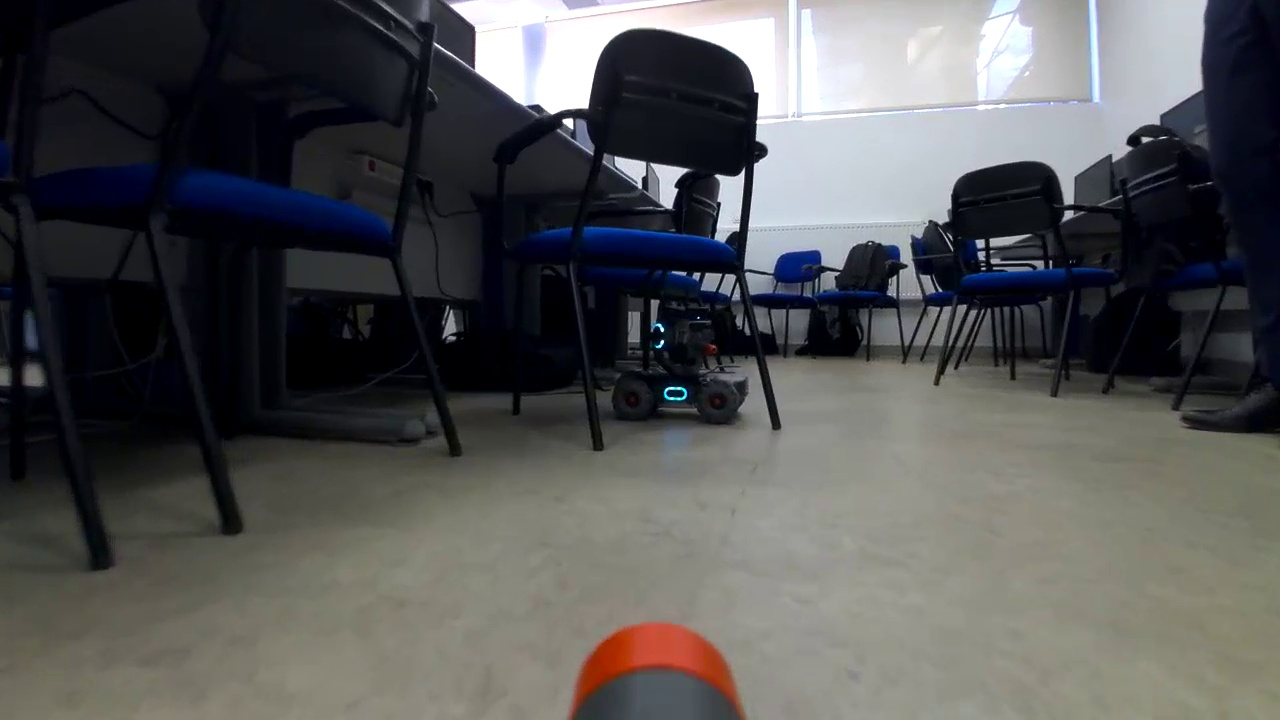robot: (608, 299, 752, 428)
